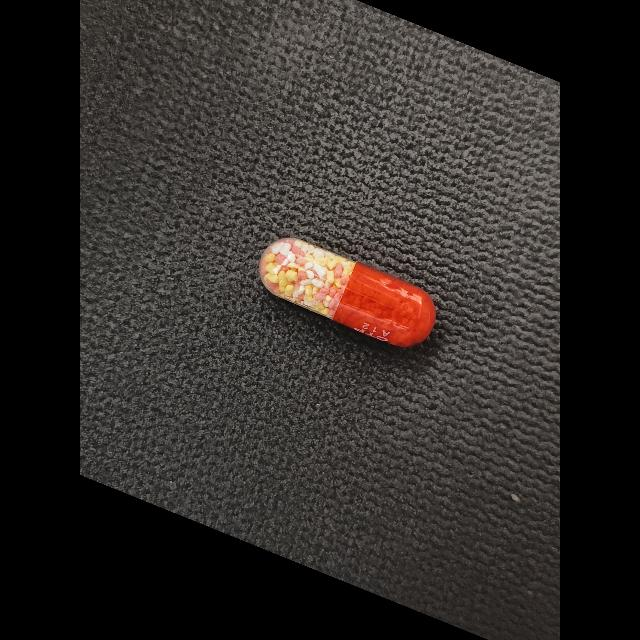Intact Capsule: (259, 237, 436, 347)
